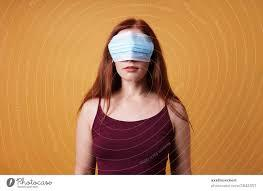mask_weared_incorrect: (113, 23, 155, 87)
